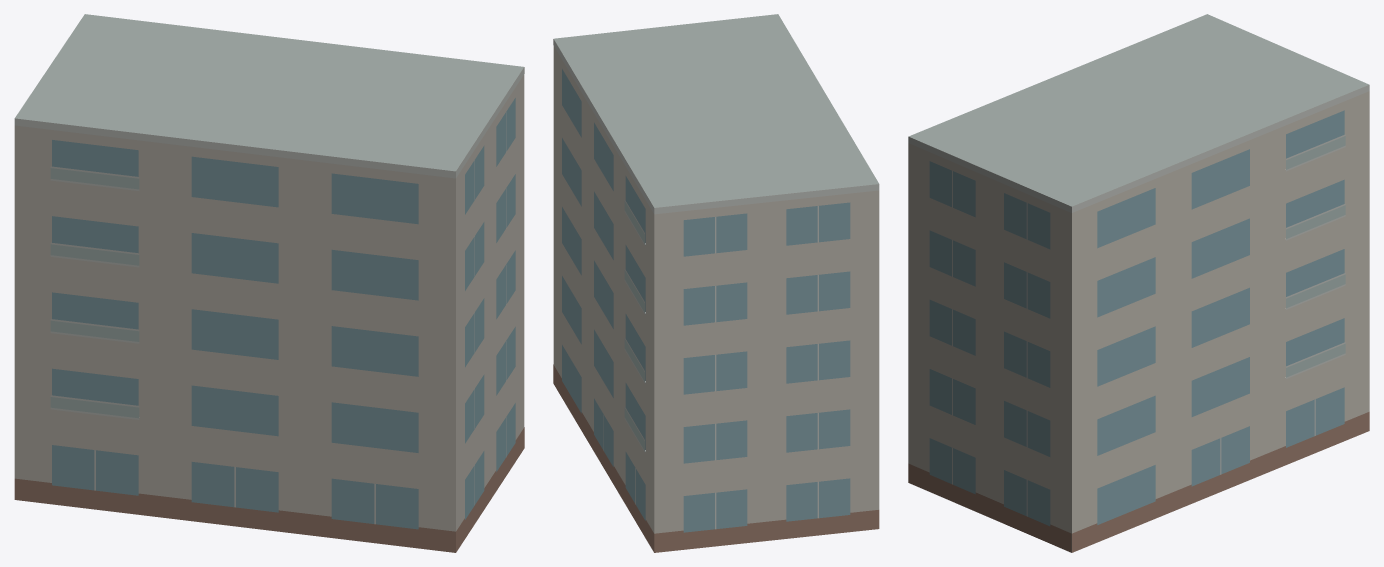
The model's file is survey-upis-33045934.glb.
3 renders of one model, left to right at view 1: azimuth 30°, elevation 25°; view 2: azimuth 150°, elevation 25°; view 3: azimuth 270°, elevation 25°, orthographic. The views are drawn at different scales.
Visible parts, largest first — view 1: survey-upis-33045934.tmp; view 2: survey-upis-33045934.tmp; view 3: survey-upis-33045934.tmp.
Boxes of the visible parts, bbox=[...] form: survey-upis-33045934.tmp: bbox=[14, 14, 524, 552]; survey-upis-33045934.tmp: bbox=[553, 14, 879, 552]; survey-upis-33045934.tmp: bbox=[908, 14, 1369, 552].
Bounding box in the file's own units: 15.77 × 13.2 × 15.94.
